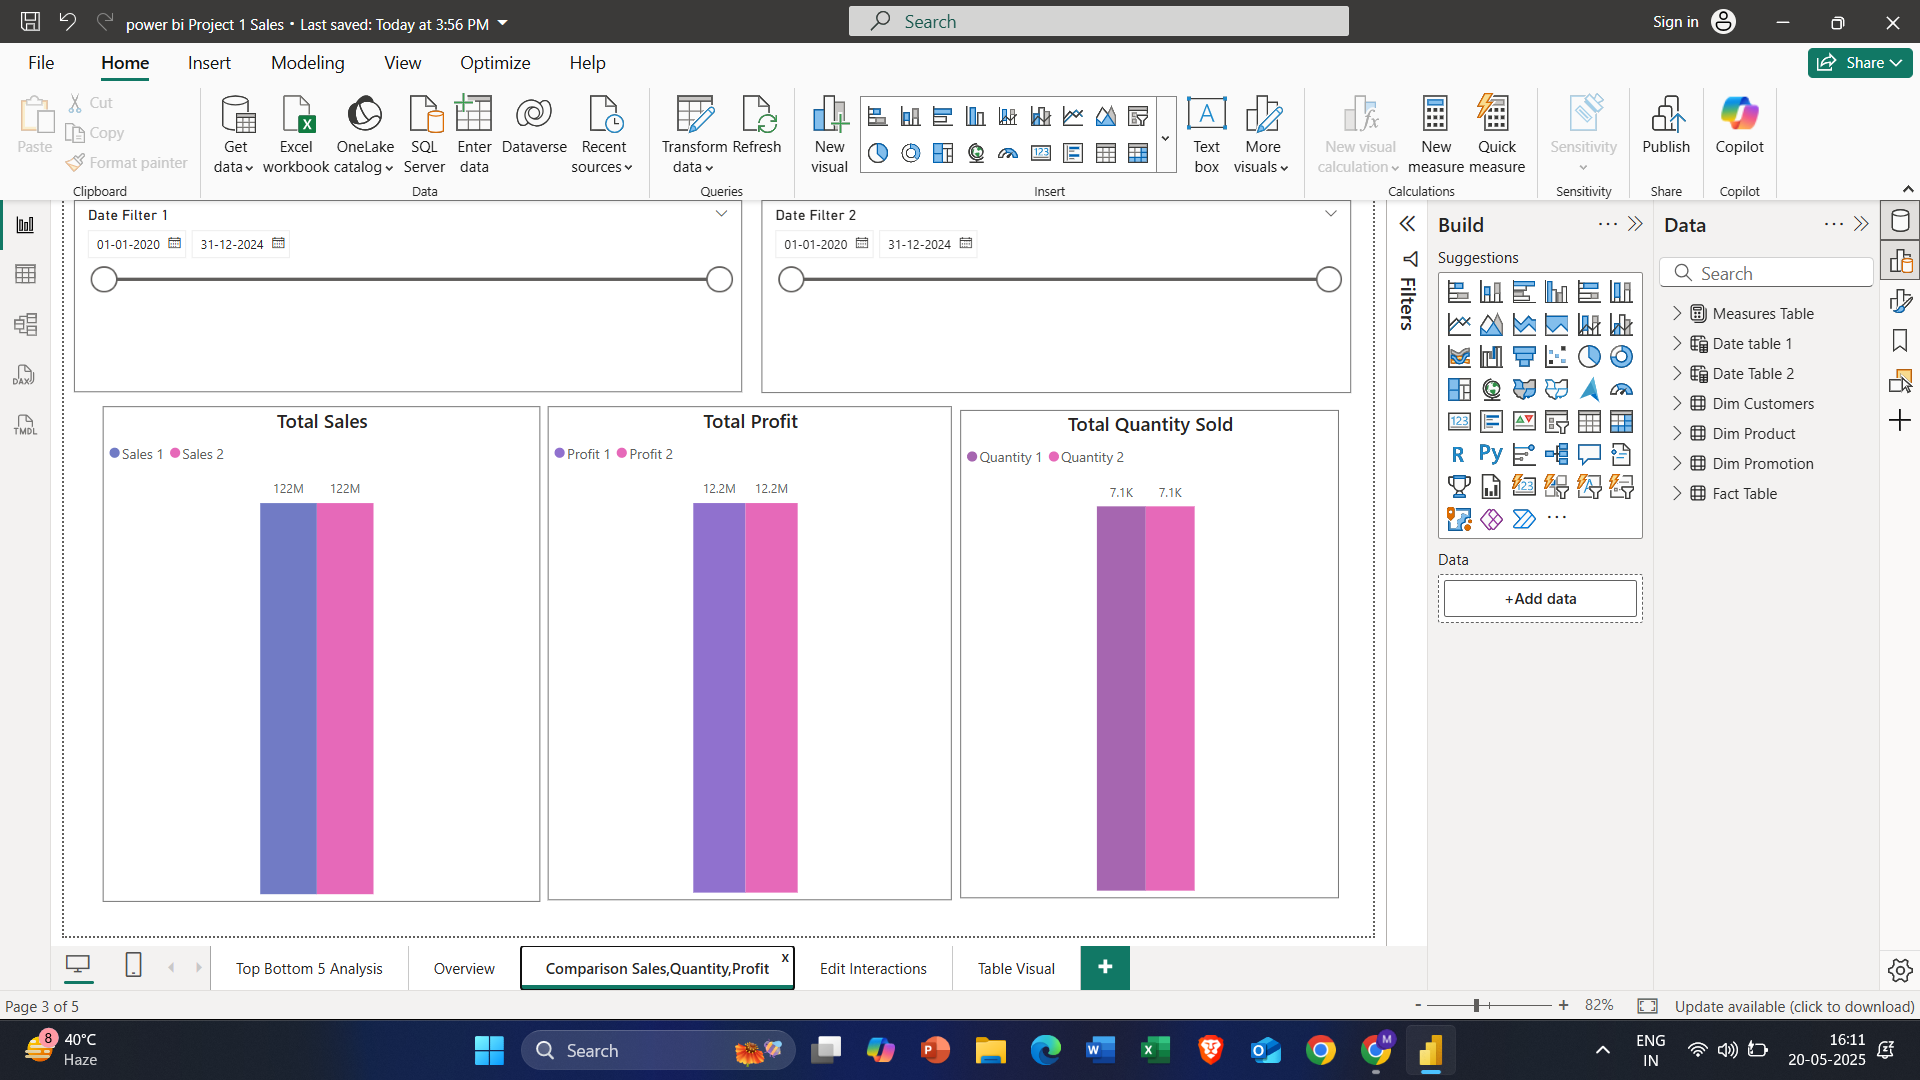

What the dashboard file says about the page in this screenshot:
{"tool":"powerbi","page":{"name":"Comparison Sales,Quantity,Profit","canvas":[1280,720],"ordinal":2},"visuals":[{"type":"slicer","fields":{"Values":["Date table 1.Date"]},"box":[10,0,653.3,188.3],"z":0},{"type":"slicer","fields":{"Values":["Date Table 2.Date"]},"box":[682.4,0,577.1,189],"z":1000},{"type":"clusteredColumnChart","title":"Total Sales","fields":{"Y":["Sum(Fact Table.Net Sales)","Date table 1.sum of net sales"]},"box":[38.4,202,427.6,484.5],"z":2000},{"type":"clusteredColumnChart","title":"Total Profit","fields":{"Y":["Sum(Fact Table.Profit)","Measures Table.Total Profit"]},"box":[472.9,202,395.3,483.3],"z":3000},{"type":"clusteredColumnChart","title":"Total Quantity Sold","fields":{"Y":["Sum(Fact Table.Units Sold)","Measures Table.Quantity Sold"]},"box":[877.2,204.9,370.8,477.6],"z":4000}]}

Visuals, with their boxes on the page's 1280x720 design canvas (x1, y1, x2, y2). These are canvas units, not pixel positions in the 1920x1080 screenshot, which may show the page scaled, cropped or inside an application window:
slicer - Date table 1.Date: <box>10,0,663,188</box>
slicer - Date Table 2.Date: <box>682,0,1260,189</box>
"Total Sales" clusteredColumnChart: <box>38,202,466,686</box>
"Total Profit" clusteredColumnChart: <box>473,202,868,685</box>
"Total Quantity Sold" clusteredColumnChart: <box>877,205,1248,682</box>
